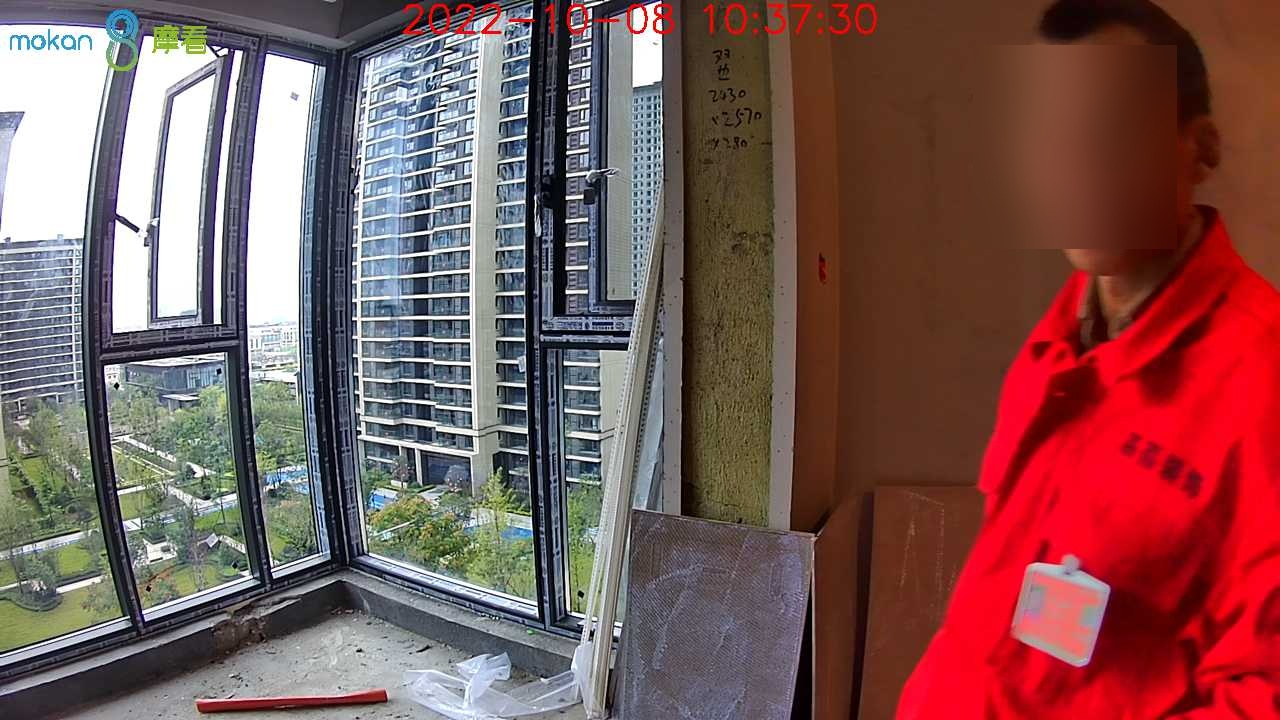people: (895, 2, 1279, 720)
window: (3, 19, 667, 643)
